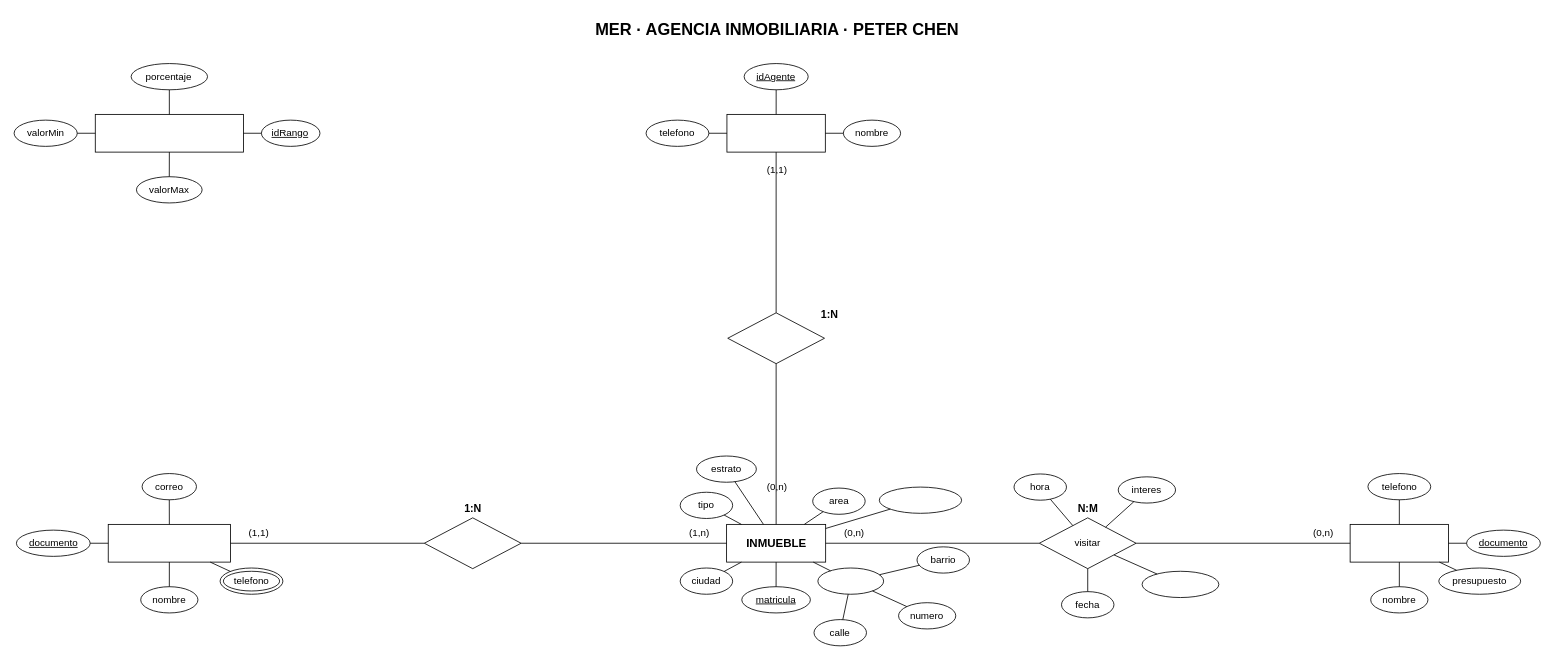
Some shapes in this 1556 by 660 pixel diagram are drawn without their labels. Here are the shapes that lost their labels. From the top down, the box of each, then its label:
(94, 114, 243, 152): RANGO_COMISION
(726, 114, 825, 152): AGENTE
(727, 312, 825, 364): gestionar
(878, 486, 962, 513): habitaciones
(107, 524, 231, 562): PROPIETARIO
(424, 517, 521, 569): poseer
(1349, 524, 1449, 562): CLIENTE
(817, 567, 884, 594): direccion
(1141, 570, 1219, 598): comentario
